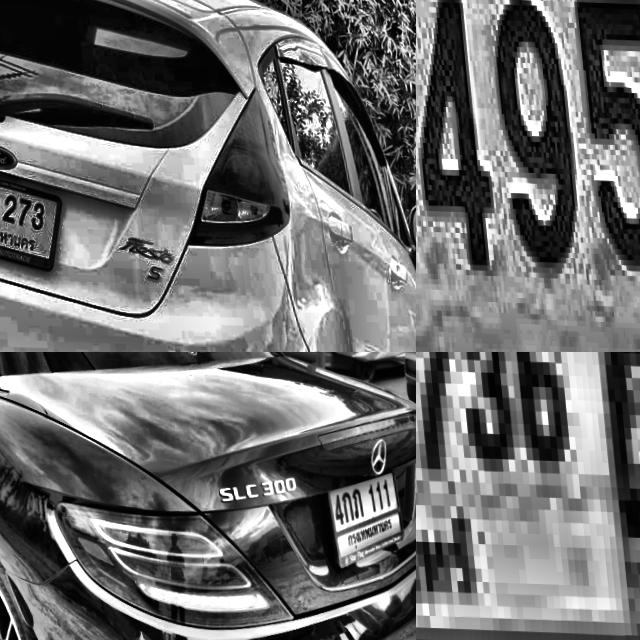license-plate: (416, 0, 640, 352), (416, 352, 640, 640), (309, 458, 410, 583), (0, 159, 63, 277)
